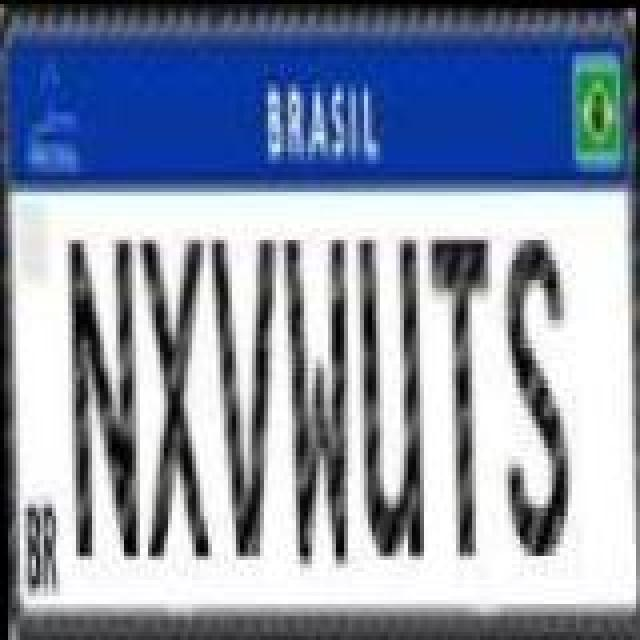N: (68, 236, 140, 560)
S: (502, 232, 570, 556)
T: (428, 234, 492, 558)
U: (360, 232, 424, 556)
V: (212, 234, 284, 558)
W: (282, 236, 350, 572)
X: (140, 234, 212, 558)
